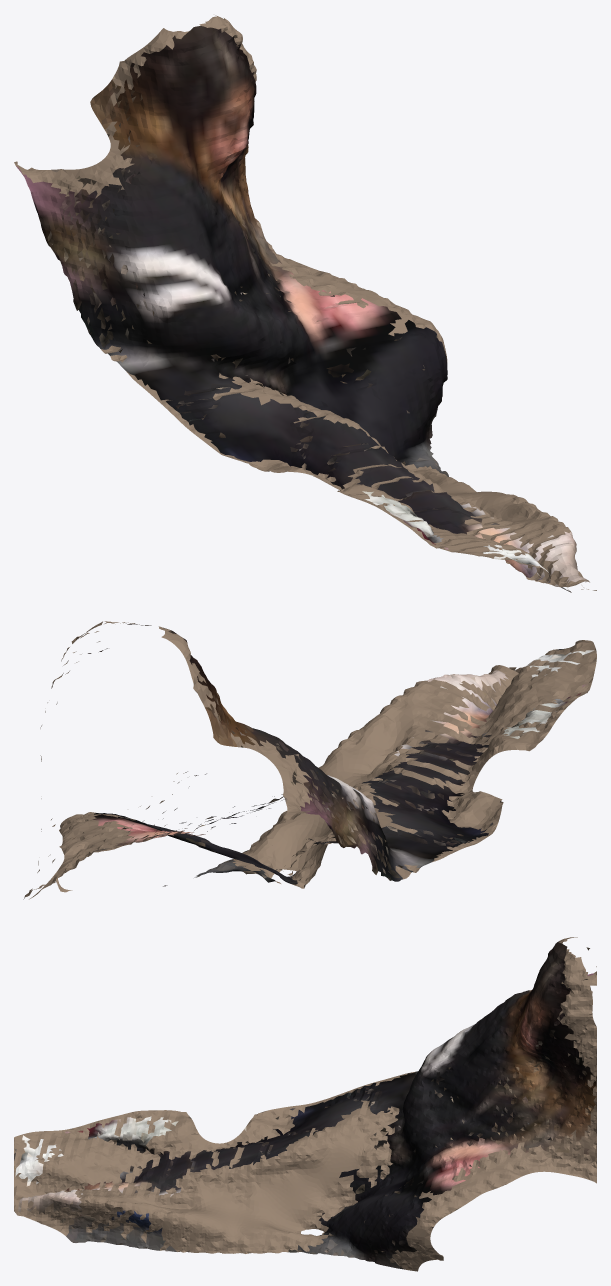
3 renders of one model, top to bottom at view 1: azimuth 30°, elevation 25°; view 2: azimuth 150°, elevation 25°; view 3: azimuth 270°, elevation 25°, orthographic. The views are drawn at different scales.
Bounding box in the file's own units: 0.588 × 0.612 × 1.19.
Materials: 1 (1 with a texture image).
